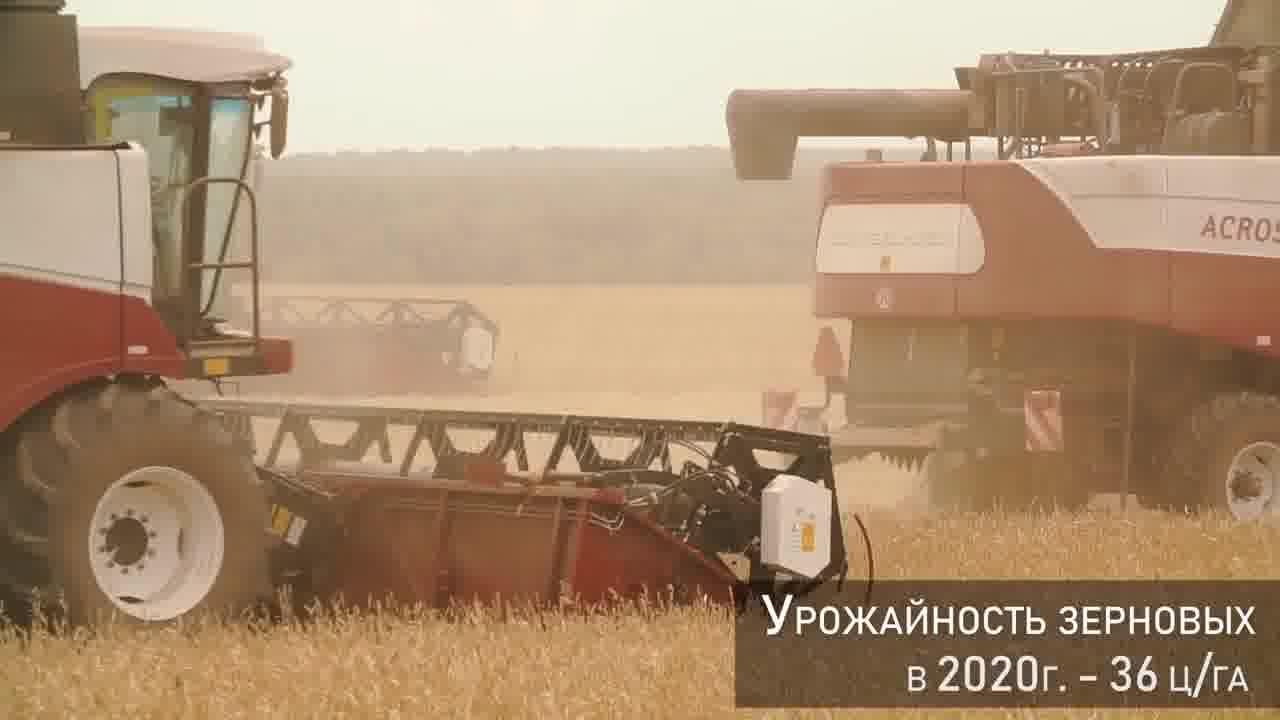combine harvester: (0, 0, 888, 651), (720, 0, 1280, 515)
